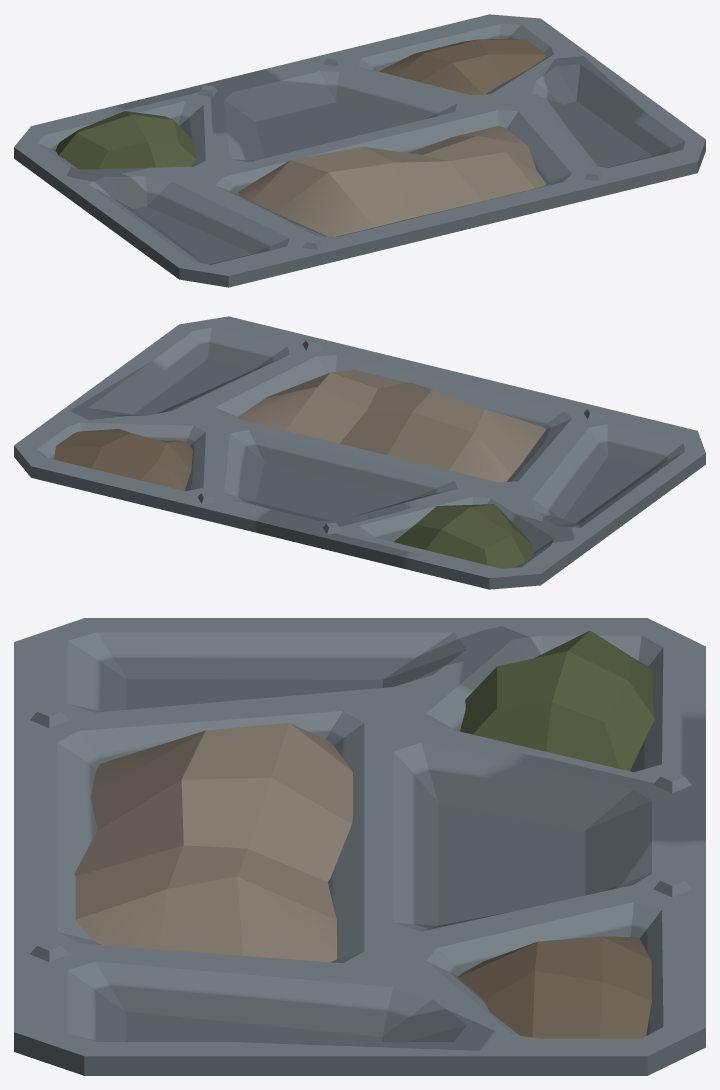
The model's file is SM_Prop_Tray_03.fbx.
The picture shows the model from 3 angles, top to bottom: view 1: azimuth 30°, elevation 25°; view 2: azimuth 150°, elevation 25°; view 3: azimuth 270°, elevation 25°; orthographic projection. The views are drawn at different scales.
Visible parts, largest first — view 1: SM_Prop_Tray_03; view 2: SM_Prop_Tray_03; view 3: SM_Prop_Tray_03.
Boxes of the visible parts, left/top/right/bottom form: SM_Prop_Tray_03: left=14, top=14, right=705, bottom=287; SM_Prop_Tray_03: left=14, top=316, right=705, bottom=589; SM_Prop_Tray_03: left=14, top=618, right=705, bottom=1075.
Size of the model in its own units: 65.7 by 6.43 by 43.84.
1 material, 1 textured.
